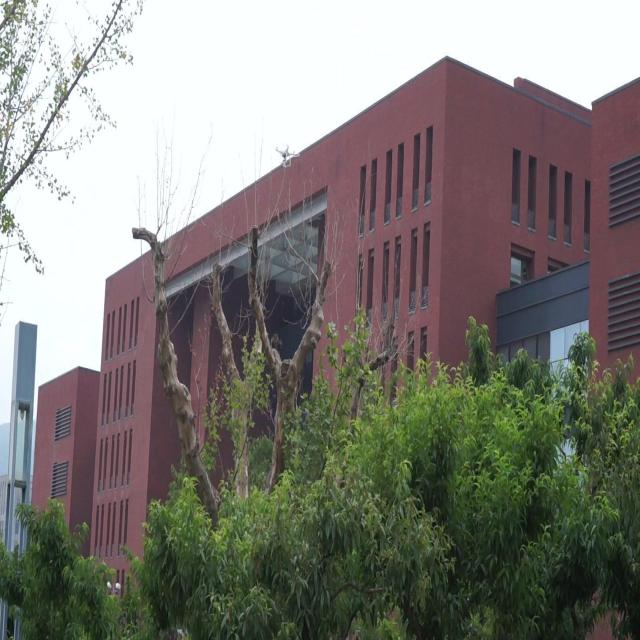UAV: (274, 143, 300, 168)
